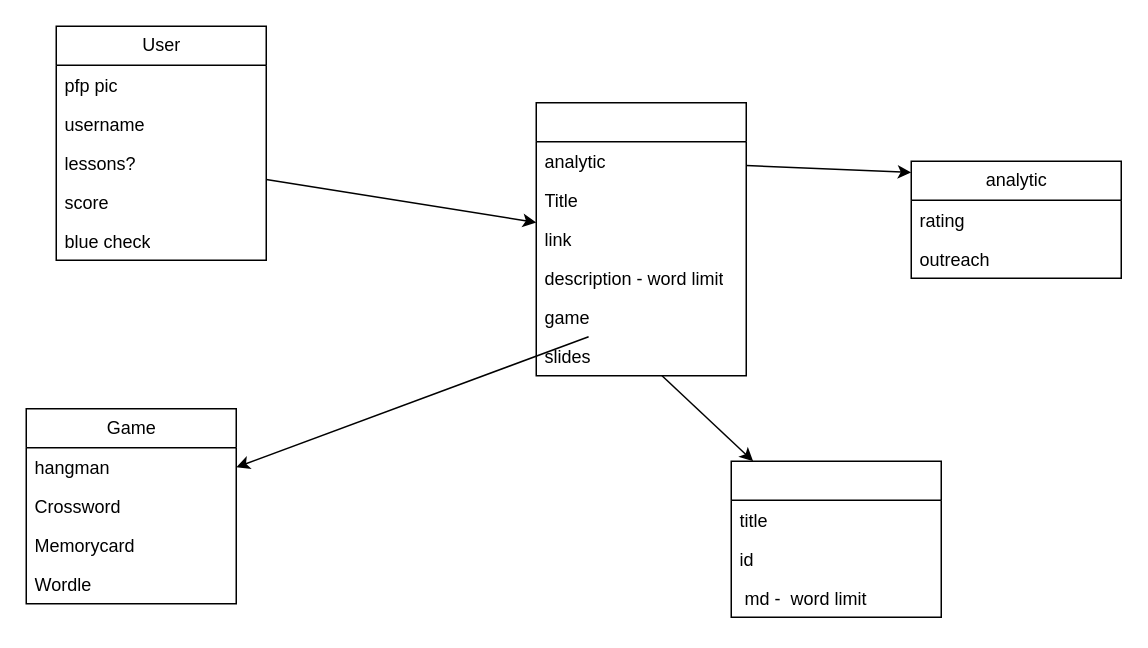
This 1148x648 diagram has some shape labels left out. The box of each missing label's shape, as (x1, y1, x2, y2) in pixels:
Lesson: (535, 101, 746, 376)
Slide: (730, 460, 941, 617)
